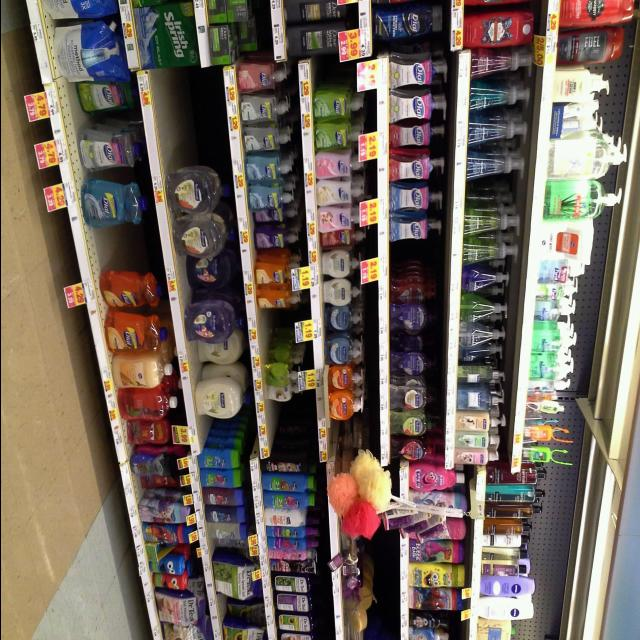empty_space: (162, 72, 214, 164), (96, 230, 148, 264), (267, 401, 303, 436), (391, 240, 432, 262), (258, 312, 294, 332)
